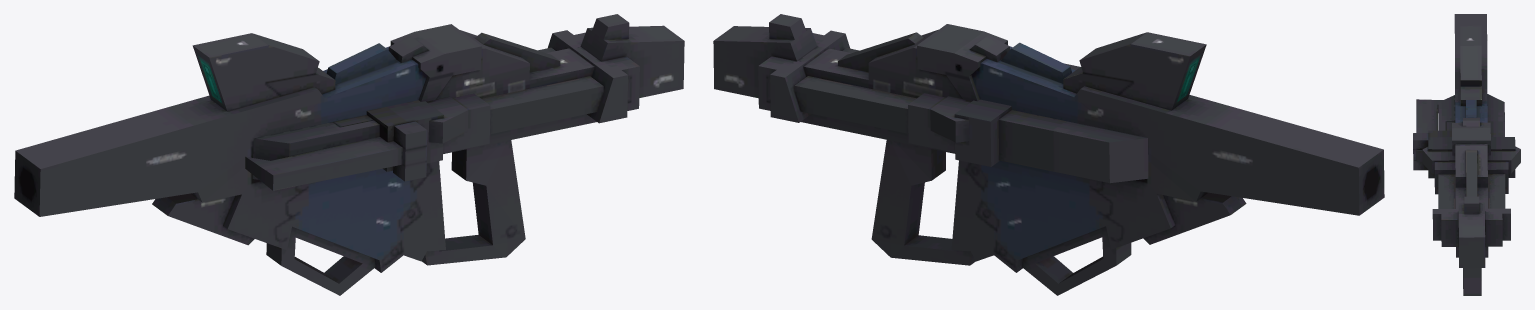
Rendered from gun.fbx.
3 views of the same model, side by side, from view 1: azimuth 30°, elevation 25°; view 2: azimuth 150°, elevation 25°; view 3: azimuth 270°, elevation 25° (orthographic). The views are drawn at different scales.
Parts seen in each view (by area): view 1: gun; view 2: gun; view 3: gun.
Boxes of the visible parts, <box> form: gun: <box>14,14,684,295</box>; gun: <box>713,14,1384,295</box>; gun: <box>1413,14,1520,295</box>.
Size of the model in its own units: 121 by 49.16 by 27.27.
